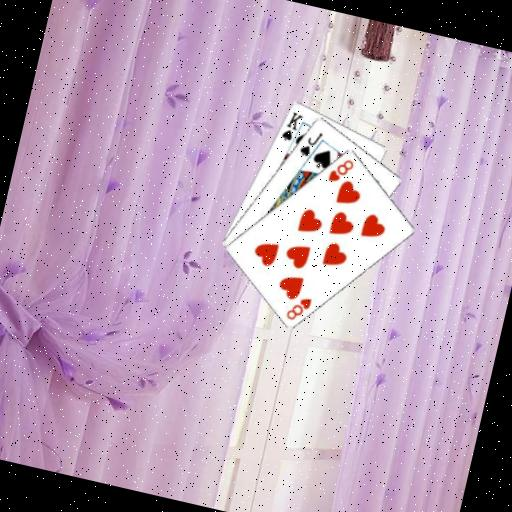8H: (324, 153, 357, 188), (282, 291, 314, 325)
JS: (296, 125, 326, 161)
KS: (277, 107, 306, 145)
